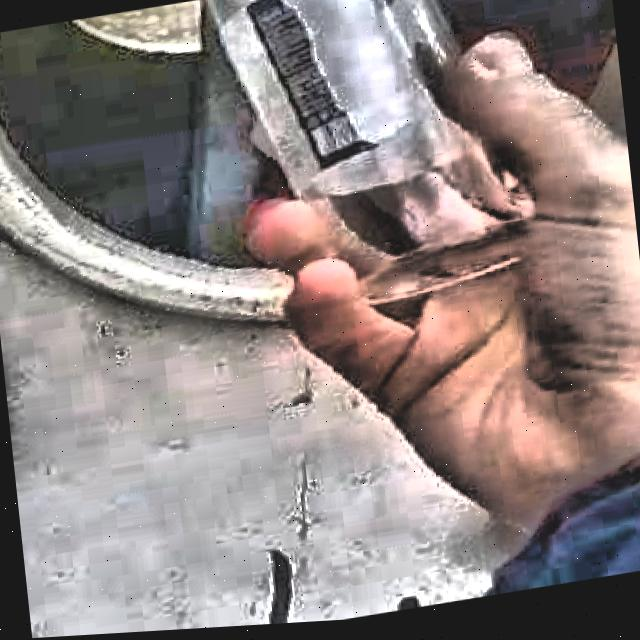glass: (204, 0, 531, 315)
